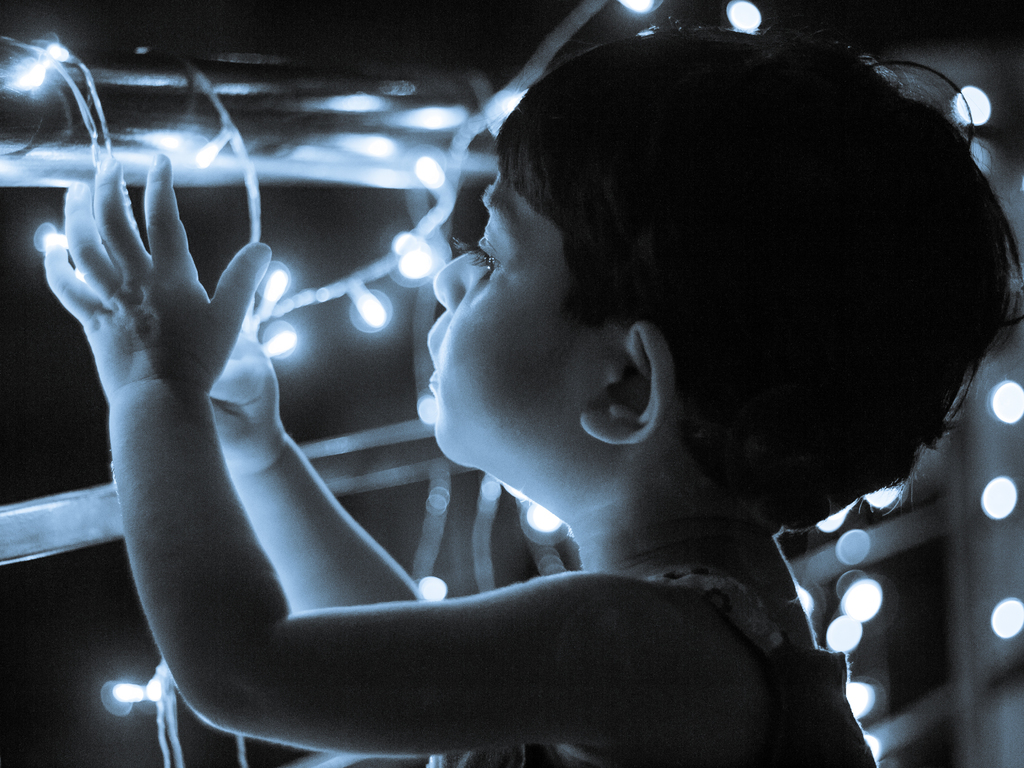Human_hand: (39, 132, 302, 499), (204, 326, 292, 482)
